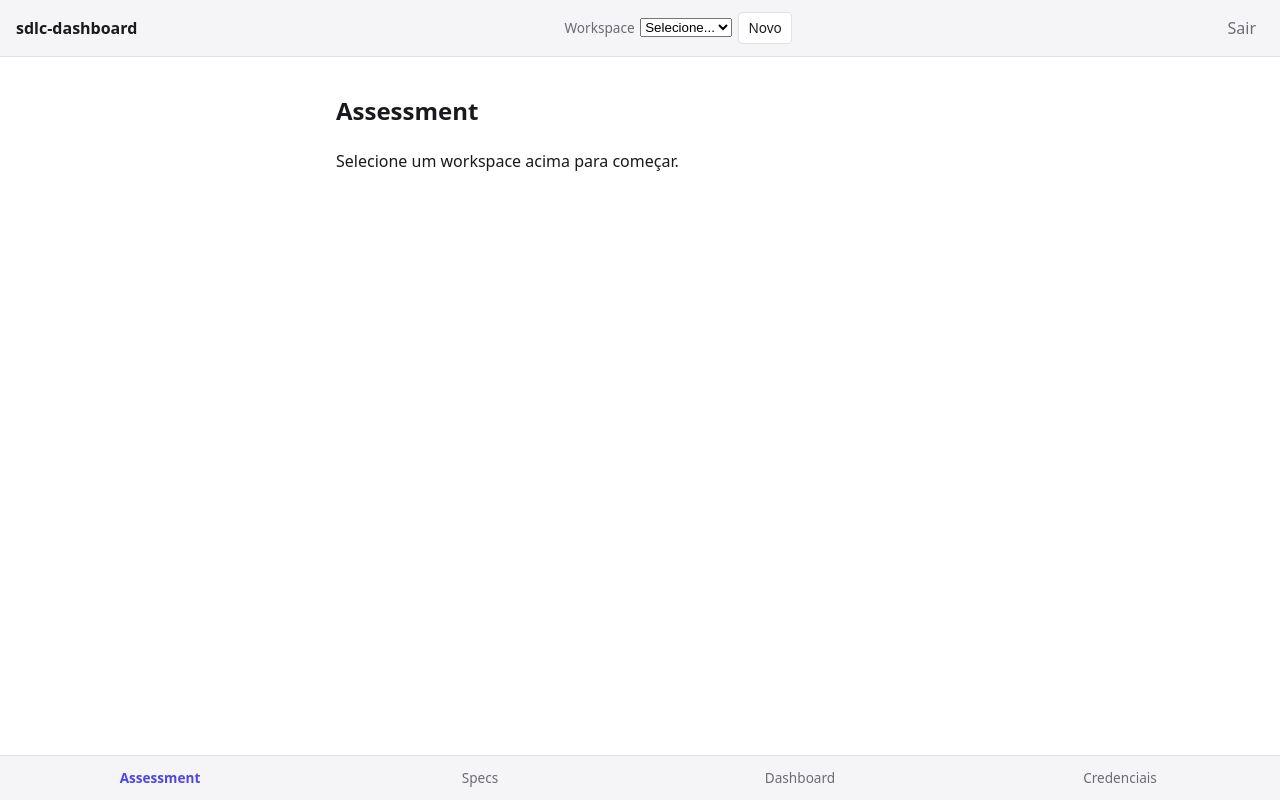
App routing › redirects "/" to /assessment once authenticated, and lets the operator move between the four tabs
Expected: the heading "Assessment" is shown, x1=336 y1=94 x2=478 y2=127
Click the link "Specs".
click(480, 777)  # box x1=462 y1=768 x2=498 y2=787
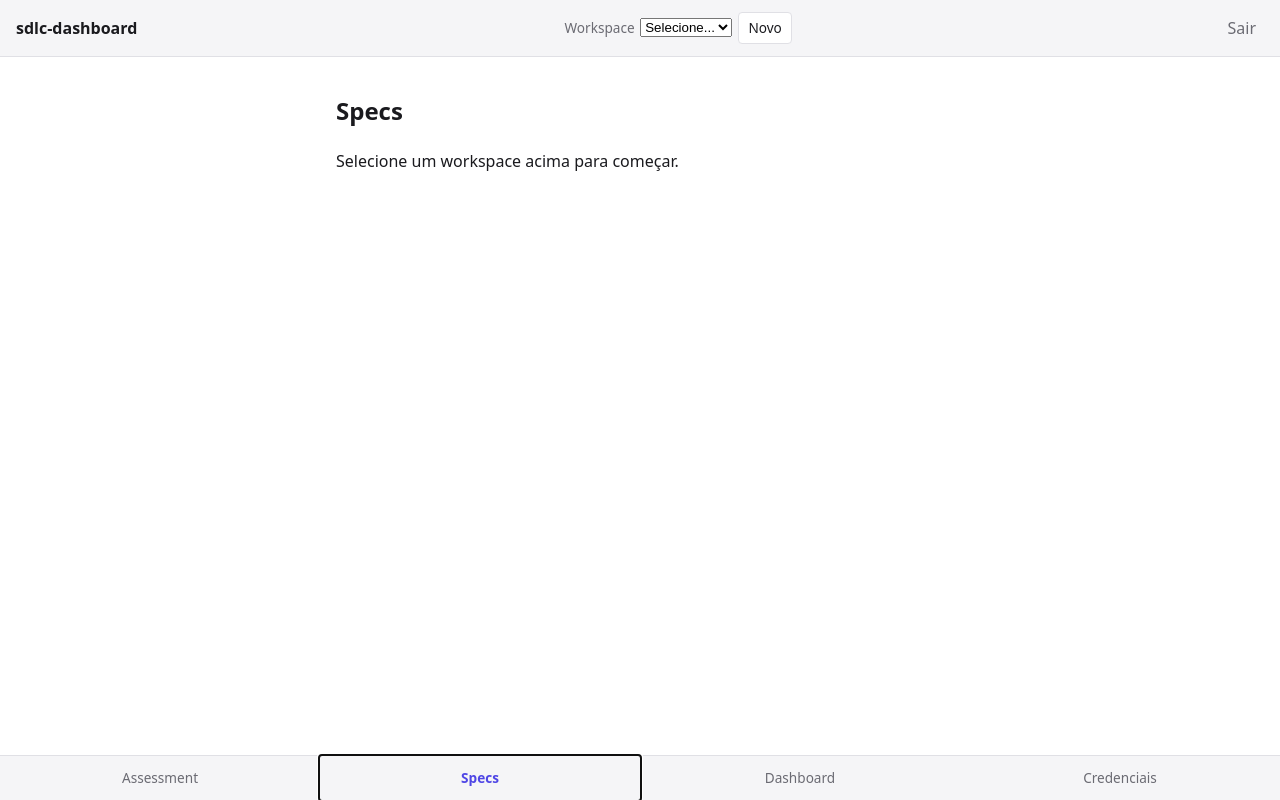
Result: the heading "Specs" is shown at x1=336 y1=94 x2=403 y2=127
Click the link "Dashboard".
click(800, 777)  # box x1=765 y1=768 x2=835 y2=787
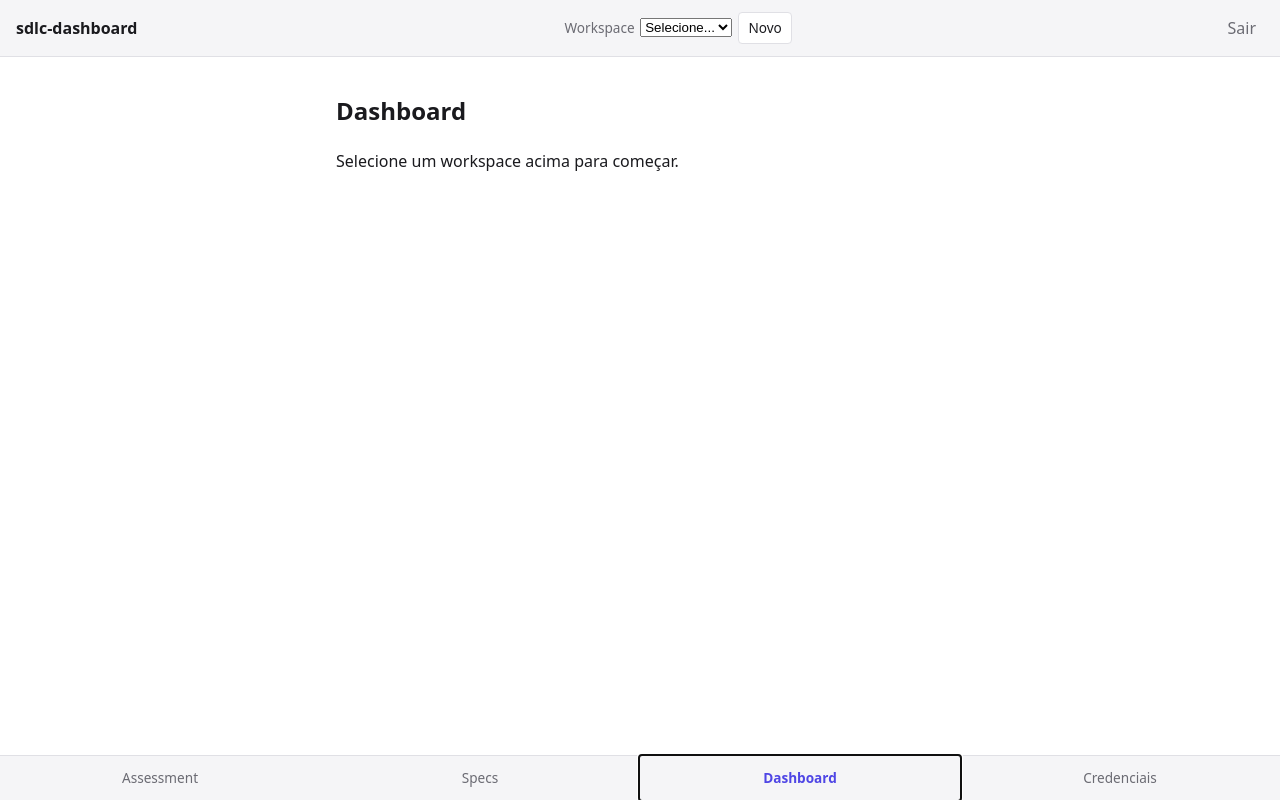
Result: the heading "Dashboard" is shown at x1=336 y1=94 x2=466 y2=127
Click the link "Credenciais".
click(1120, 777)  # box x1=1083 y1=768 x2=1157 y2=787
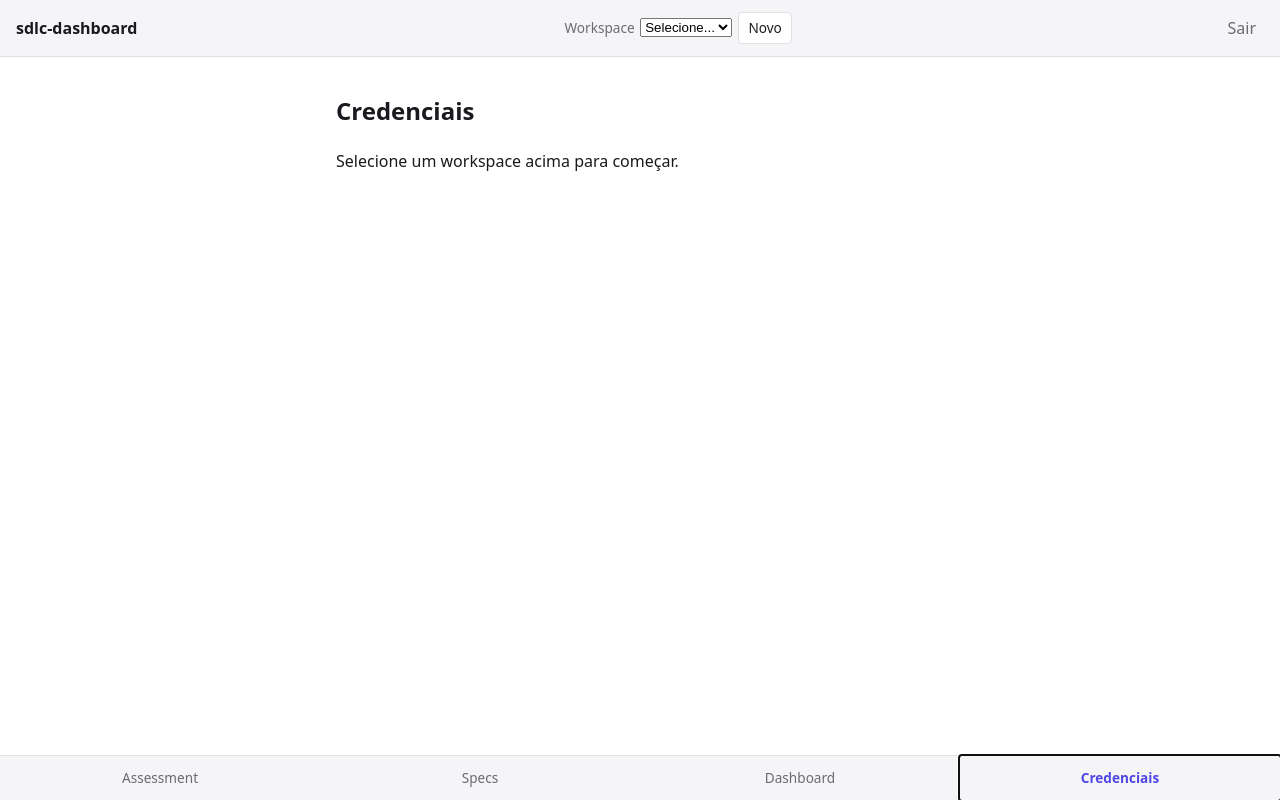
Result: the heading "Credenciais" is shown at x1=336 y1=94 x2=474 y2=127
